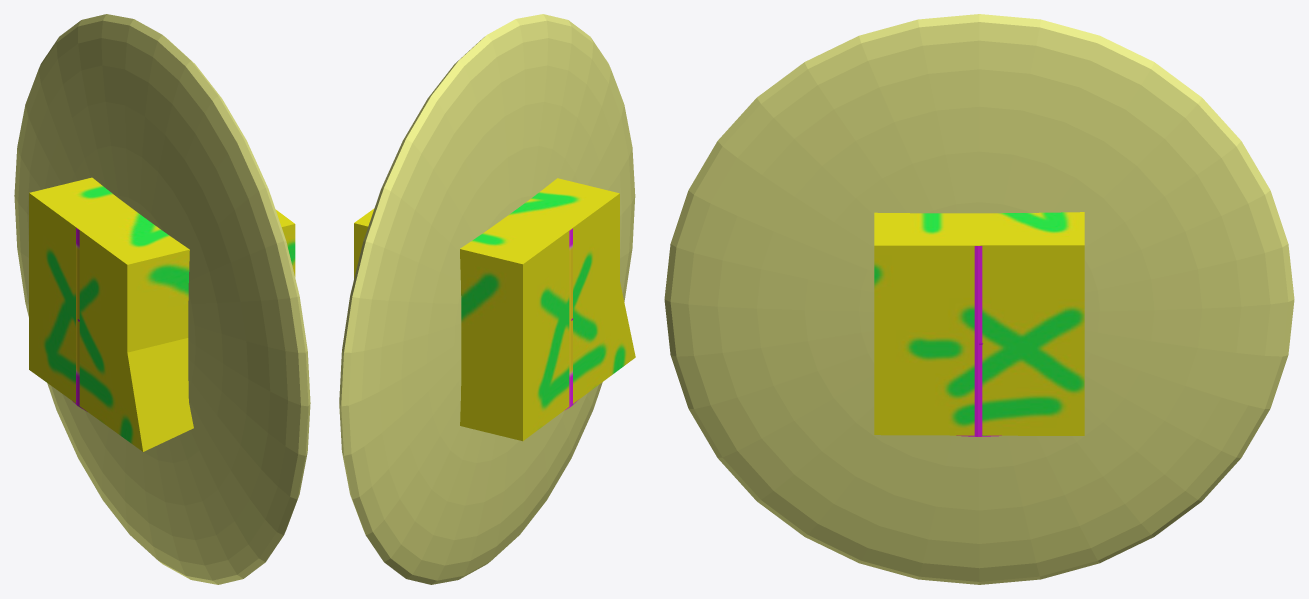
Rendered from wapuku.obj.
3 views of the same model, side by side, from view 1: azimuth 30°, elevation 25°; view 2: azimuth 150°, elevation 25°; view 3: azimuth 270°, elevation 25° (orthographic). The views are drawn at different scales.
Parts seen in each view (by area): view 1: Torus, Cube, Cylinder; view 2: Torus, Cube, Cylinder; view 3: Torus, Cube, Cylinder.
Boxes of the visible parts, left/top/right/bottom form: Torus: left=14, top=14, right=310, bottom=584; Cube: left=29, top=177, right=295, bottom=451; Cylinder: left=72, top=228, right=86, bottom=411; Torus: left=339, top=14, right=635, bottom=584; Cube: left=354, top=178, right=635, bottom=441; Cylinder: left=564, top=228, right=577, bottom=410; Torus: left=664, top=14, right=1294, bottom=584; Cube: left=874, top=212, right=1084, bottom=435; Cylinder: left=956, top=246, right=1001, bottom=436.
Bounding box in the file's own units: 2 × 5.98 × 5.98.
5 materials, 5 textured.
